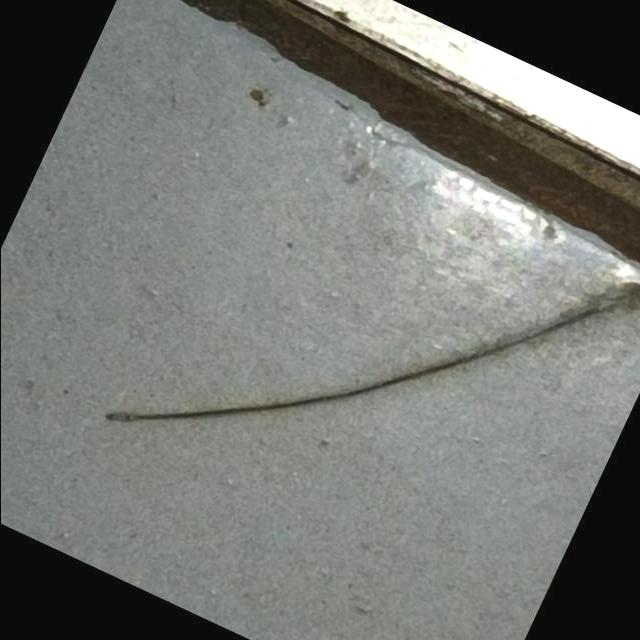defect: (92, 280, 640, 434)
